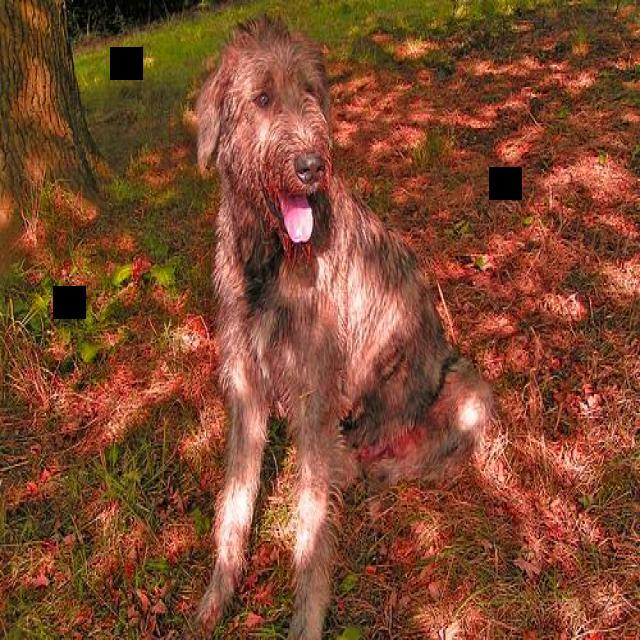adult_dog: (193, 17, 504, 640)
